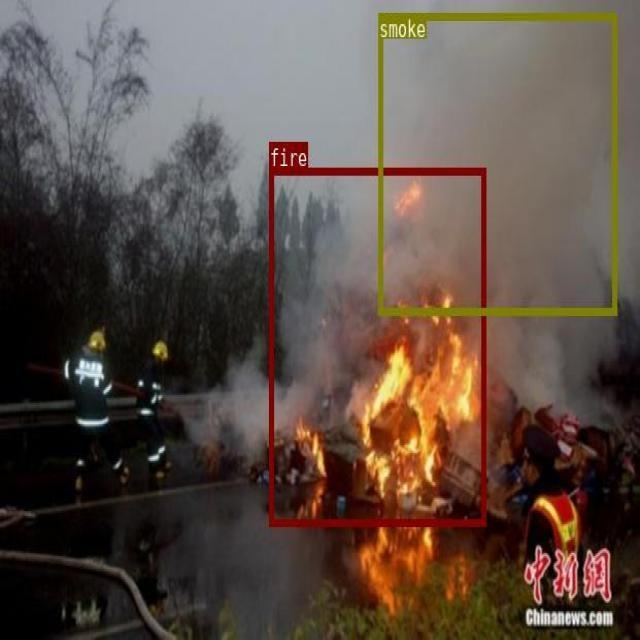fire: (269, 166, 485, 524)
smoke: (378, 12, 616, 314)
